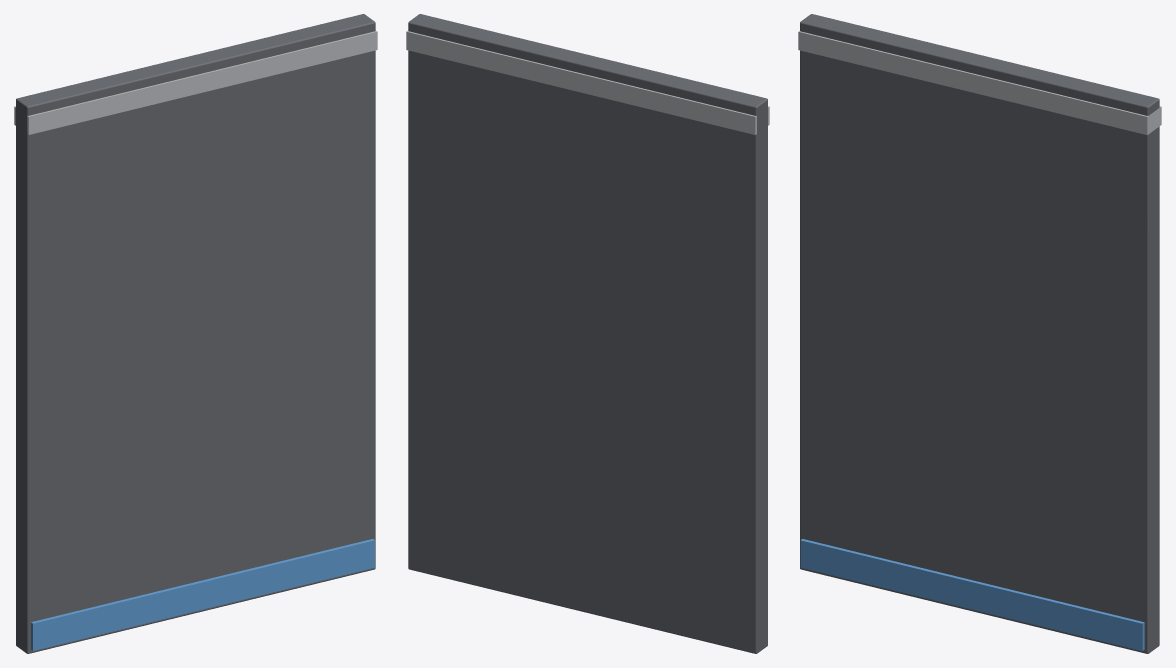
The model's file is solar-system-and-astronauts-gallery-wall-module-dark-48e1697d__39266.glb.
The picture shows the model from 3 angles, left to right: view 1: azimuth 30°, elevation 25°; view 2: azimuth 150°, elevation 25°; view 3: azimuth 330°, elevation 25°; orthographic projection.
Parts seen in each view (by area): view 1: gallery-wall-module-dark; view 2: gallery-wall-module-dark; view 3: gallery-wall-module-dark.
Part boxes in pixels (<box>): gallery-wall-module-dark: <box>14,14,377,653</box>; gallery-wall-module-dark: <box>406,14,769,653</box>; gallery-wall-module-dark: <box>798,14,1161,653</box>.
Bounding box in the file's own units: 2 × 3 × 0.152.
